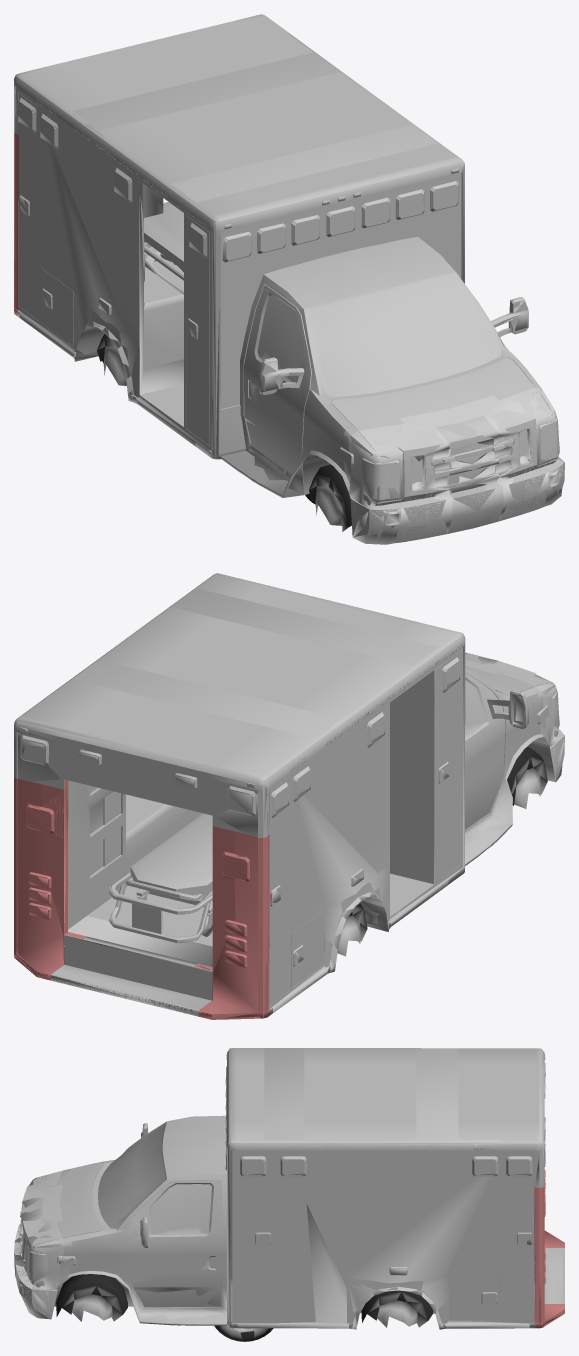
File: van4.glb
3 views of the same model, one above another, from view 1: azimuth 30°, elevation 25°; view 2: azimuth 150°, elevation 25°; view 3: azimuth 270°, elevation 25° (orthographic). The views are drawn at different scales.
Visible parts, largest first — view 1: body0, body2, body1; view 2: body0, body2, body1; view 3: body0, body2, body1, wheel0.
Part boxes in pixels (x1,y1,x2,y2): body0: (14, 14, 564, 543); body2: (14, 32, 564, 544); body1: (14, 89, 564, 542); body0: (14, 573, 564, 1019); body2: (14, 573, 564, 1019); body1: (14, 641, 564, 1019); body0: (14, 1048, 564, 1329); body2: (14, 1048, 564, 1329); body1: (14, 1062, 564, 1325); wheel0: (214, 1325, 273, 1341).
Bounding box in the file's own units: 2.62 × 2.96 × 6.
